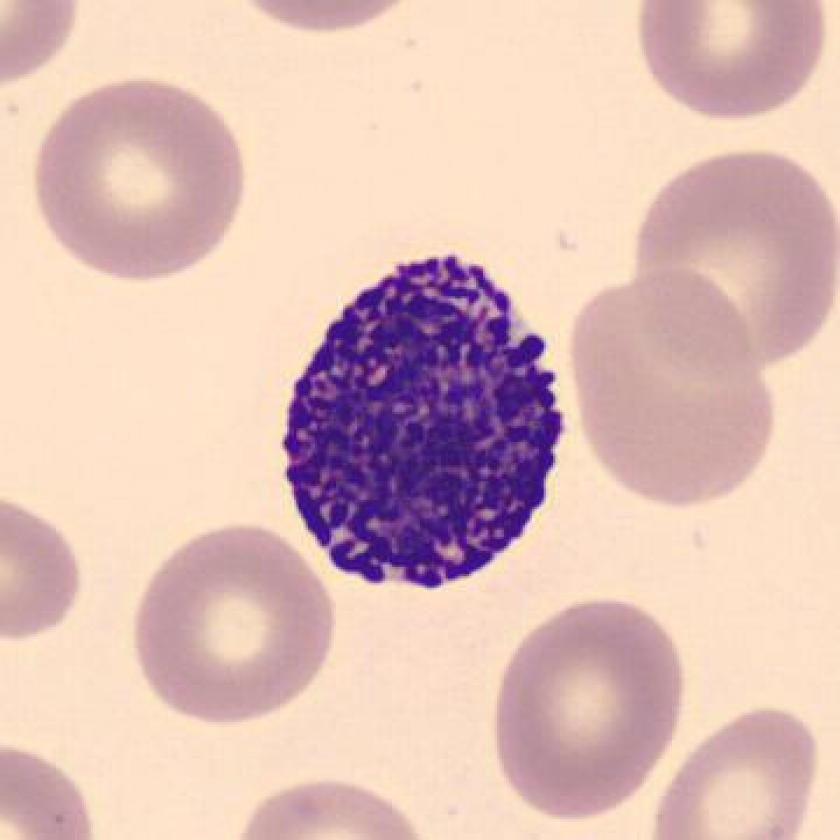basophil: (269, 230, 580, 605)
